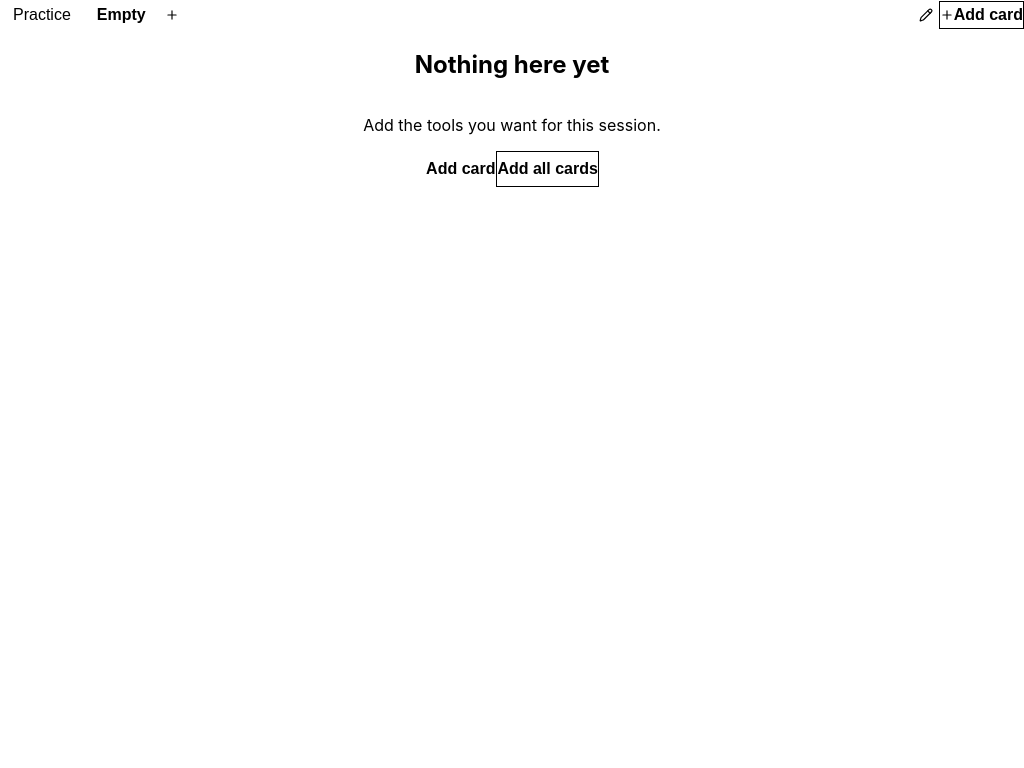
Test: shows the empty state for a workspace with no registered cards
Expected: the heading "Nothing here yet" is shown, left=415, top=50, right=609, bottom=79
Step 1. Click the 1st button "Add card" → {"x": 981, "y": 15}, box left=939, top=1, right=1023, bottom=29
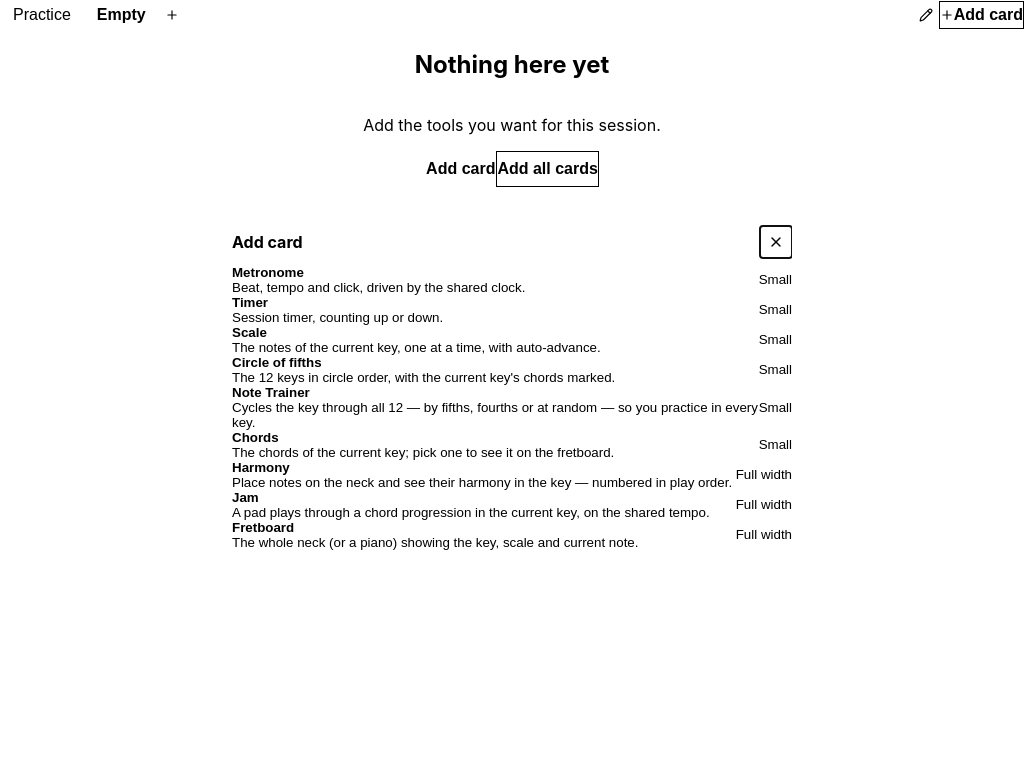
Step 2. Click the button "Metronome" → {"x": 512, "y": 280}, box left=232, top=265, right=792, bottom=295
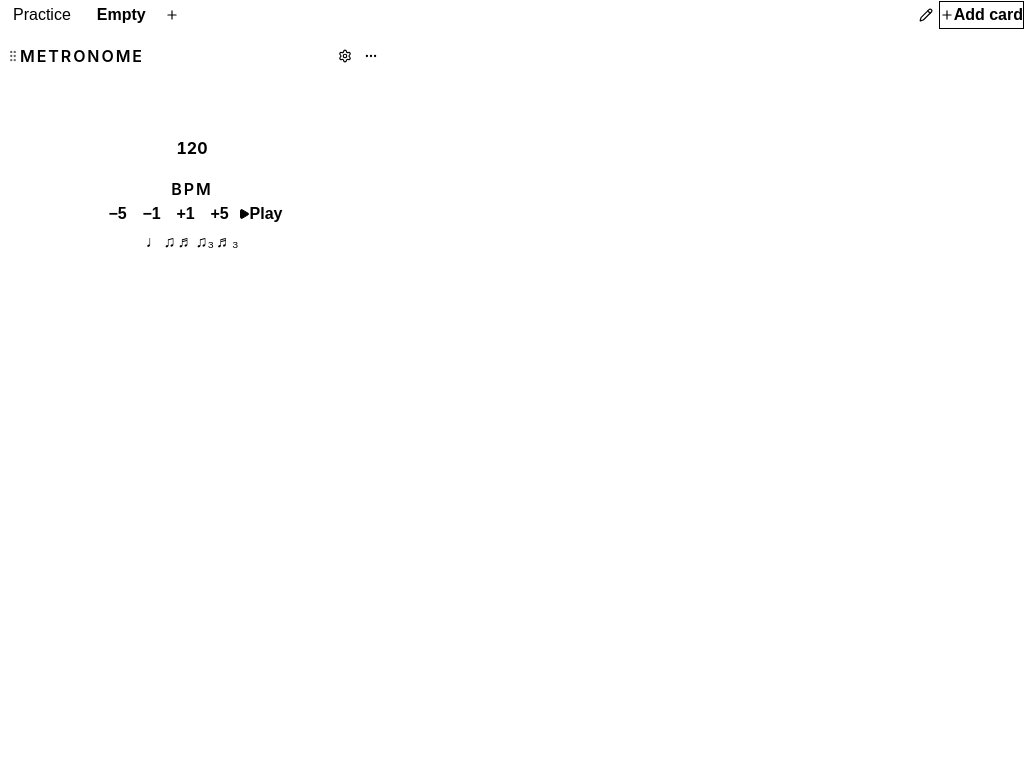
Expected: the element "Metronome" is shown, left=0, top=30, right=384, bottom=330
